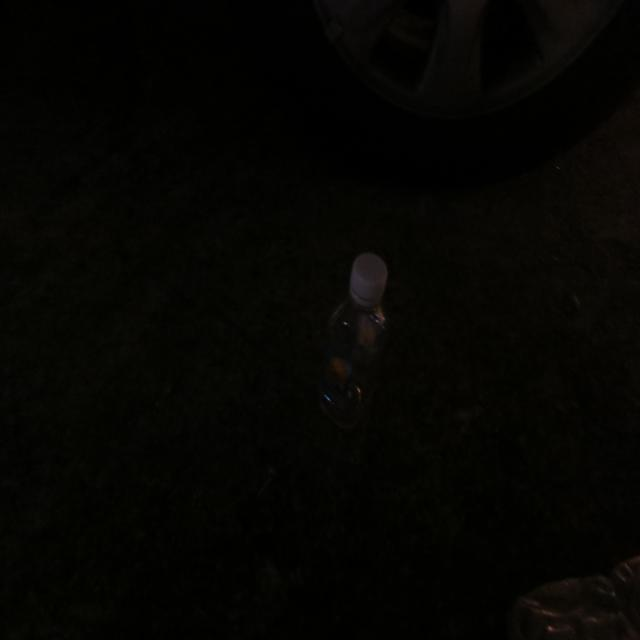Bottle: (319, 217, 393, 442)
